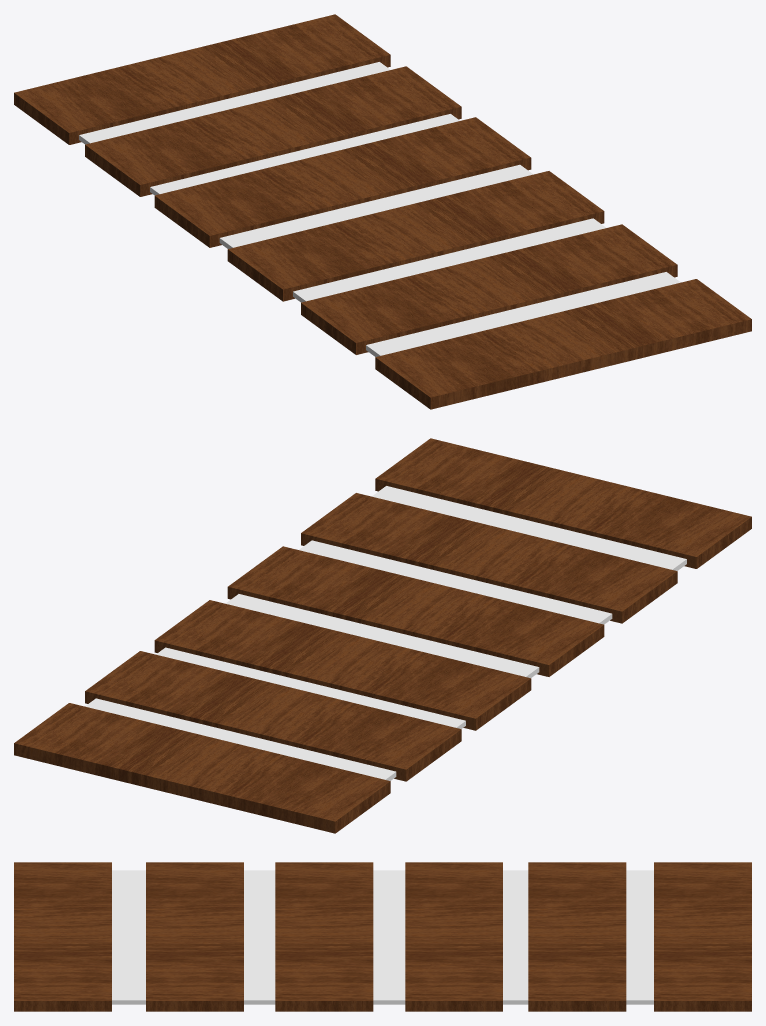
Rendered from Ceiling_Light.fbx.
3 renders of one model, top to bottom at view 1: azimuth 30°, elevation 25°; view 2: azimuth 150°, elevation 25°; view 3: azimuth 270°, elevation 25°, orthographic. The views are drawn at different scales.
Parts seen in each view (by area): view 1: Ceiling_58, Ceiling_55, Ceiling_54, Ceiling_59, Ceiling_45, Ceiling_53, Ceiling_L; view 2: Ceiling_45, Ceiling_54, Ceiling_55, Ceiling_53, Ceiling_59, Ceiling_58, Ceiling_L; view 3: Ceiling_L, Ceiling_53, Ceiling_54, Ceiling_45, Ceiling_55, Ceiling_58, Ceiling_59.
Part boxes in pixels (bbox=[...]): Ceiling_58: bbox=[375, 279, 751, 409]; Ceiling_55: bbox=[154, 117, 531, 247]; Ceiling_54: bbox=[227, 171, 604, 301]; Ceiling_59: bbox=[301, 224, 677, 354]; Ceiling_45: bbox=[14, 14, 390, 144]; Ceiling_53: bbox=[85, 66, 461, 196]; Ceiling_L: bbox=[79, 62, 680, 356]; Ceiling_45: bbox=[14, 703, 390, 833]; Ceiling_54: bbox=[227, 546, 604, 676]; Ceiling_55: bbox=[154, 600, 531, 730]; Ceiling_53: bbox=[85, 651, 461, 781]; Ceiling_59: bbox=[301, 493, 677, 623]; Ceiling_58: bbox=[375, 438, 751, 568]; Ceiling_L: bbox=[85, 486, 686, 780]; Ceiling_L: bbox=[112, 870, 653, 1004]; Ceiling_53: bbox=[528, 862, 626, 1011]; Ceiling_54: bbox=[275, 862, 373, 1011]; Ceiling_45: bbox=[654, 862, 751, 1011]; Ceiling_55: bbox=[405, 862, 502, 1011]; Ceiling_58: bbox=[14, 862, 111, 1011]; Ceiling_59: bbox=[146, 862, 243, 1011].
Bounding box in the file's own units: 3.81 × 0.1367 × 8.56.
Materials: 2 (1 with a texture image).
